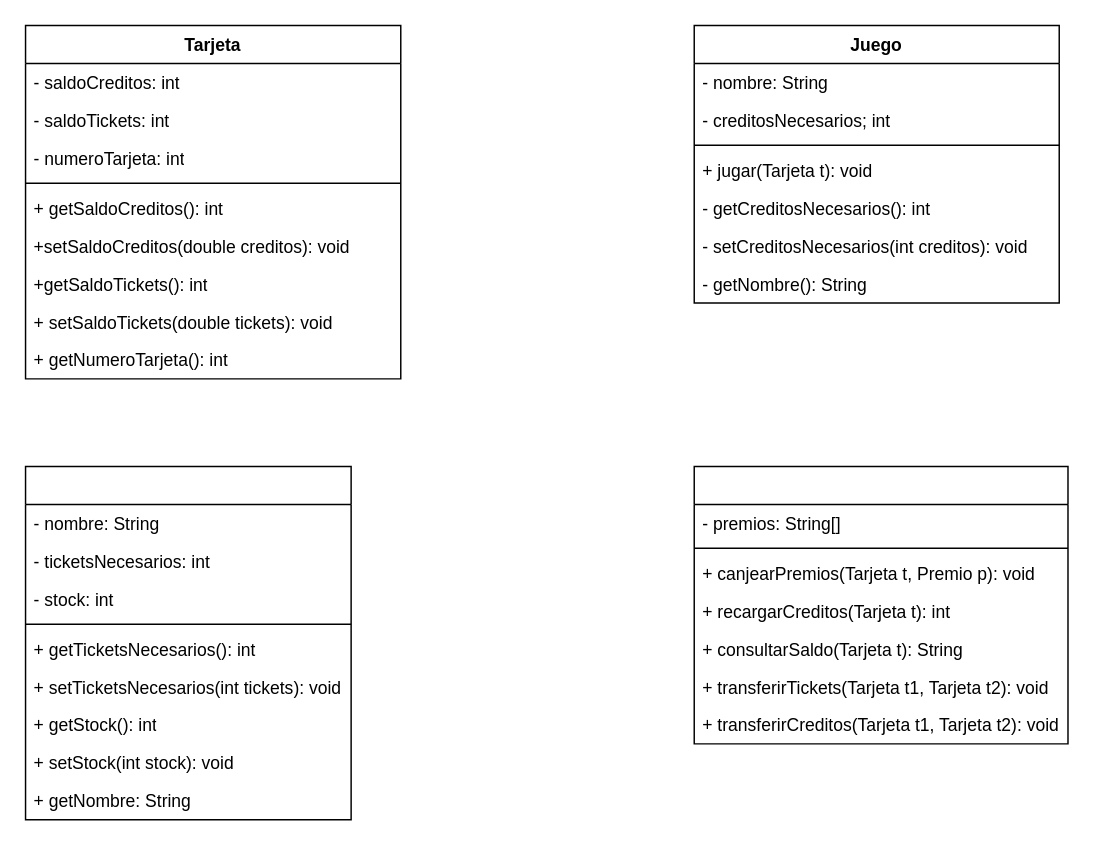
Some shapes in this 1094 by 850 pixel diagram are drawn without their labels. The shapes that lost their labels are listed below. From the top down, each one's box as (x1, y1, x2, y2) in pixels, then its label:
(693, 465, 1068, 744): Terminal
(24, 465, 351, 820): Premio
